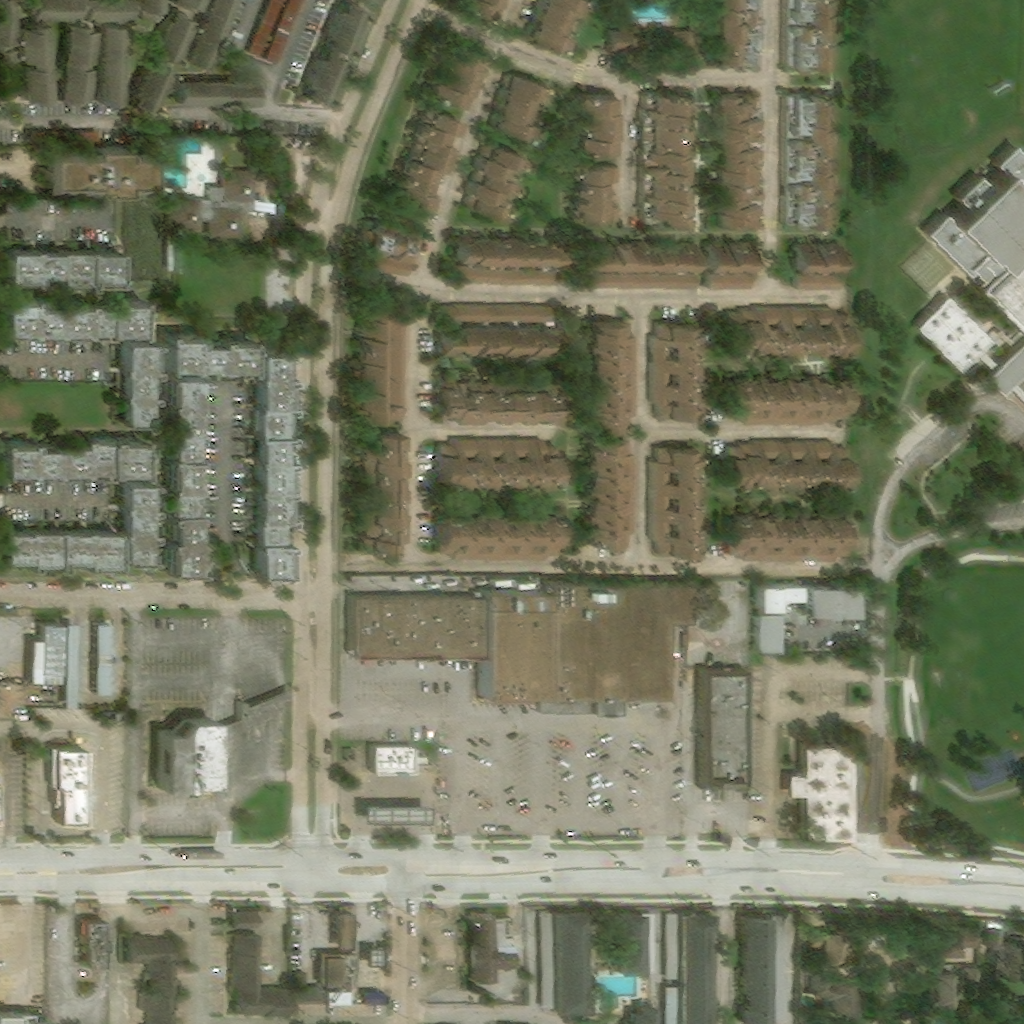no_damage: (351, 577, 693, 713), (923, 142, 1022, 336), (158, 686, 294, 793), (392, 106, 470, 217), (165, 370, 203, 579), (0, 430, 144, 483), (350, 430, 409, 557), (3, 290, 144, 341), (169, 169, 271, 237), (913, 290, 995, 374), (439, 508, 562, 564), (356, 299, 410, 426), (730, 372, 851, 428), (440, 437, 562, 492), (730, 305, 853, 359), (579, 238, 699, 293), (729, 510, 851, 564), (728, 440, 850, 494), (789, 742, 854, 842), (439, 307, 564, 358), (44, 140, 157, 196), (250, 428, 291, 582), (441, 375, 561, 427), (652, 442, 705, 559), (584, 433, 637, 550), (699, 669, 750, 790), (457, 232, 564, 289), (0, 521, 118, 572), (587, 318, 639, 433), (665, 909, 717, 1023), (233, 932, 294, 1023), (1, 239, 117, 286), (652, 317, 704, 421), (467, 141, 526, 223), (129, 939, 184, 1023), (543, 909, 588, 1011), (164, 326, 254, 375), (186, 0, 245, 73), (430, 39, 489, 111), (492, 72, 551, 143), (360, 216, 420, 283), (644, 147, 693, 229), (738, 911, 773, 1023), (788, 152, 833, 230), (469, 911, 517, 984), (527, 0, 591, 54), (786, 0, 834, 72), (57, 20, 97, 105), (571, 161, 623, 226), (19, 20, 57, 108), (253, 342, 291, 430), (119, 474, 156, 564), (49, 743, 88, 828), (121, 335, 156, 429), (716, 162, 763, 230), (645, 89, 698, 149), (268, 0, 314, 68), (324, 0, 377, 59), (614, 910, 659, 977), (807, 968, 870, 1015), (787, 94, 835, 155), (304, 43, 349, 108), (579, 88, 622, 156), (796, 237, 846, 294), (97, 20, 128, 109), (718, 0, 759, 67), (249, 0, 292, 62), (176, 75, 258, 107), (707, 243, 756, 294), (150, 3, 193, 60), (131, 51, 174, 105), (29, 622, 65, 685), (803, 912, 848, 962), (610, 30, 695, 56), (716, 119, 761, 166), (804, 580, 857, 617), (373, 745, 434, 777), (0, 0, 29, 61), (931, 971, 971, 1010), (363, 801, 431, 823), (716, 91, 760, 125), (932, 927, 980, 958), (758, 581, 804, 613), (83, 915, 108, 970), (95, 622, 112, 699), (320, 952, 357, 986), (65, 621, 78, 708), (758, 614, 784, 656), (83, 0, 135, 21), (0, 42, 19, 99), (460, 0, 505, 24), (0, 1002, 50, 1023), (28, 0, 84, 18), (982, 919, 1012, 952), (299, 972, 324, 1009), (333, 910, 355, 951), (137, 0, 165, 25), (999, 993, 1022, 1023), (233, 913, 264, 934), (628, 1003, 658, 1023), (327, 989, 352, 1009), (171, 0, 206, 13), (952, 1009, 981, 1023)
